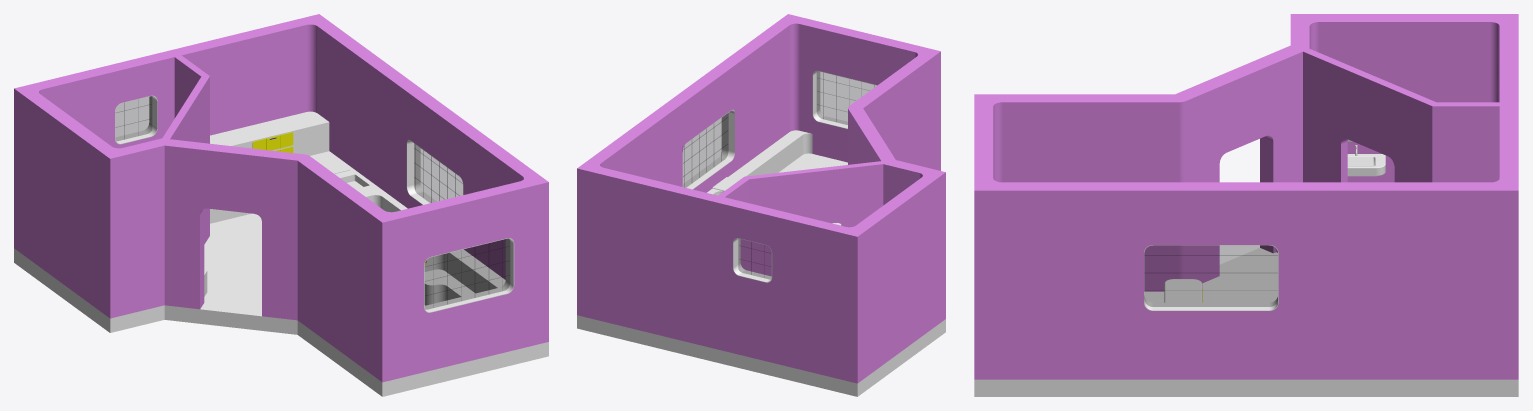
Rendered from mobility typeC OptionC.glb.
3 renders of one model, left to right at view 1: azimuth 30°, elevation 25°; view 2: azimuth 150°, elevation 25°; view 3: azimuth 270°, elevation 25°, orthographic. The views are drawn at different scales.
Visible parts, largest first — view 1: wall, floor, 玻璃, 橱柜，木制或者整体性强的材质, 窗框（金属）, 床（15MM 软包边-皮质）, 床（软包，软垫，皮纹细腻）, 柜门，区别于整体的柜子, 沙发（15MM 软包边-皮质）; view 2: wall, floor, 玻璃, 窗框（金属）, 床（15MM 软包边-皮质）, 床（软包，软垫，皮纹细腻）; view 3: wall, floor, 玻璃, 窗框（金属）, 岛台，木色或者和沙发底框一个颜色, 陶瓷（白色）.
Boxes of the visible parts, x1,y1,x2,y2 form: wall: (14,14,548,382); floor: (14,213,548,396); 玻璃: (115,96,509,309); 橱柜，木制或者整体性强的材质: (210,111,380,223); 窗框（金属）: (115,95,514,312); 床（15MM 软包边-皮质）: (434,249,505,293); 床（软包，软垫，皮纹细腻）: (424,269,475,298); 柜门，区别于整体的柜子: (252,132,426,263); 沙发（15MM 软包边-皮质）: (362,189,407,212); wall: (577,14,945,383); floor: (577,223,945,396); 玻璃: (683,71,876,279); 窗框（金属）: (682,70,877,282); 床（15MM 软包边-皮质）: (728,130,812,179); 床（软包，软垫，皮纹细腻）: (779,153,847,172); wall: (974,14,1518,379); floor: (974,248,1518,396); 玻璃: (1144,245,1277,306); 窗框（金属）: (1144,245,1278,310); 岛台，木色或者和沙发底框一个颜色: (1164,279,1202,302); 陶瓷（白色）: (1347,154,1385,176).
Bounding box in the file's own units: 6.6 × 3.6 × 8.6.
